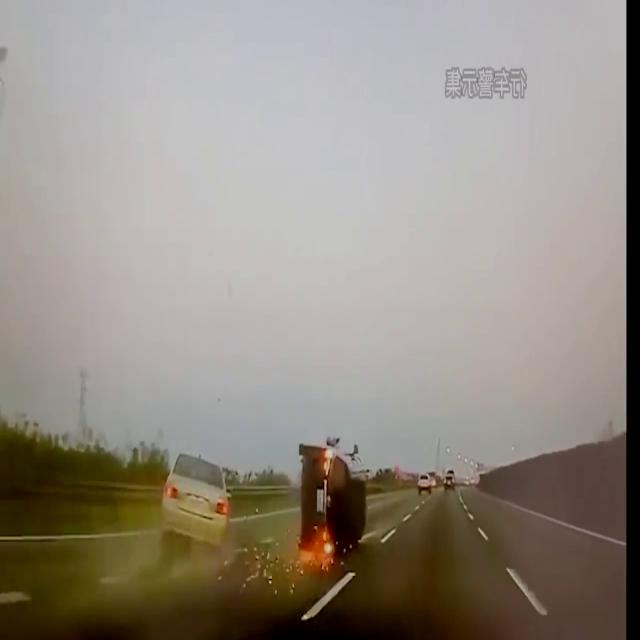accident: (158, 436, 368, 594)
non-accident: (417, 472, 437, 496), (443, 470, 455, 492)
